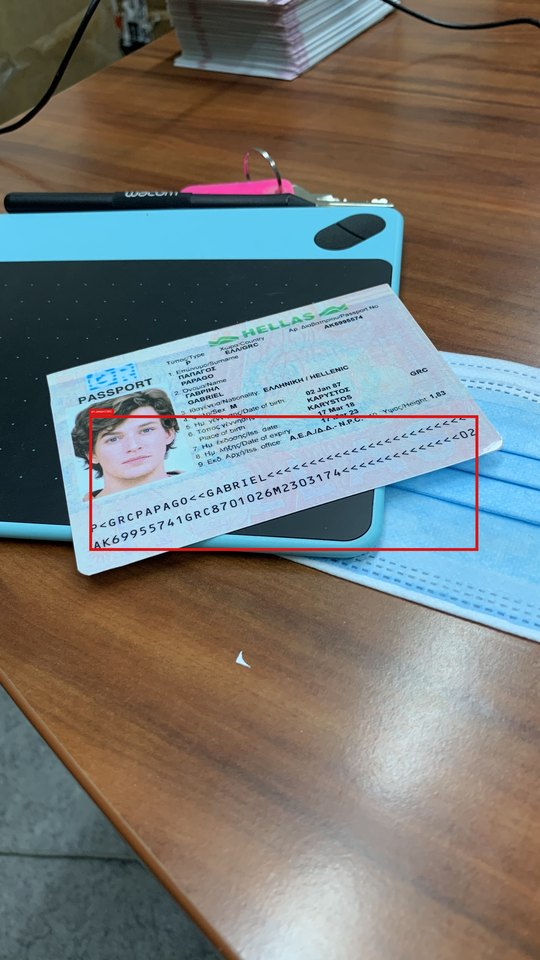MRZ: (89, 415, 478, 551)
